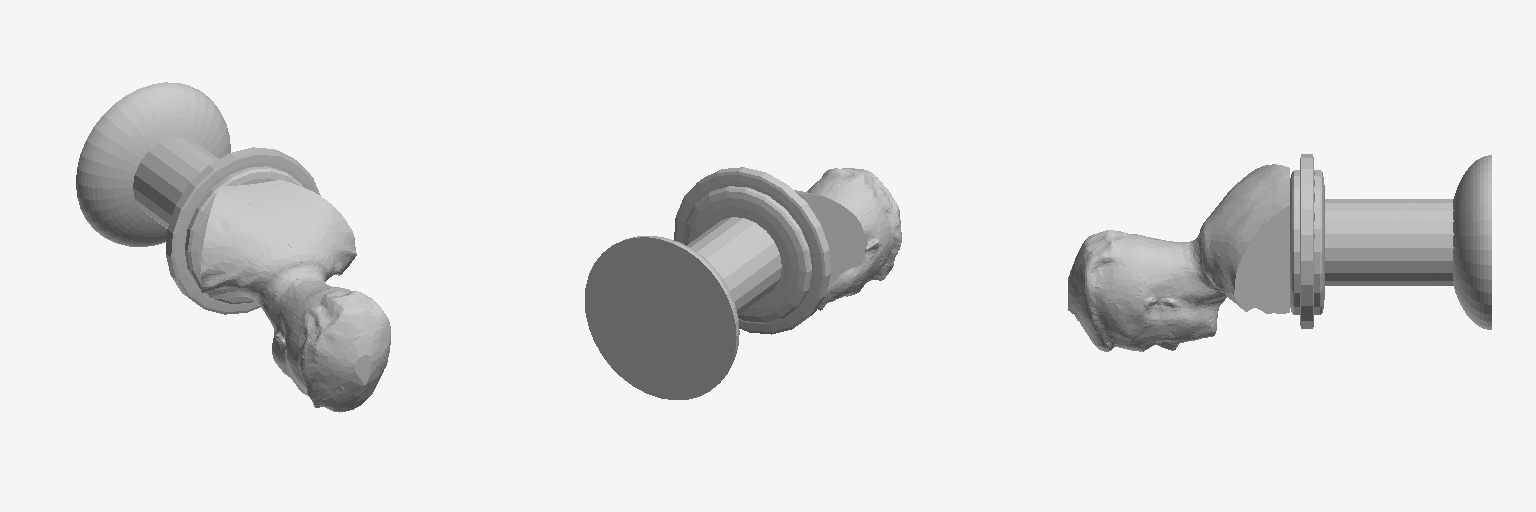
Rendered from carlosbust.obj.
The picture shows the model from 3 angles: view 1: azimuth 30°, elevation 25°; view 2: azimuth 150°, elevation 25°; view 3: azimuth 270°, elevation 25°; orthographic projection.
Parts seen in each view (by area): view 1: obj_0; view 2: obj_0; view 3: obj_0.
Boxes of the visible parts, <box> form: obj_0: <box>76,82,390,412</box>; obj_0: <box>585,167,901,399</box>; obj_0: <box>1068,154,1491,351</box>.
Size of the model in its own units: 16 by 18.44 by 37.7.